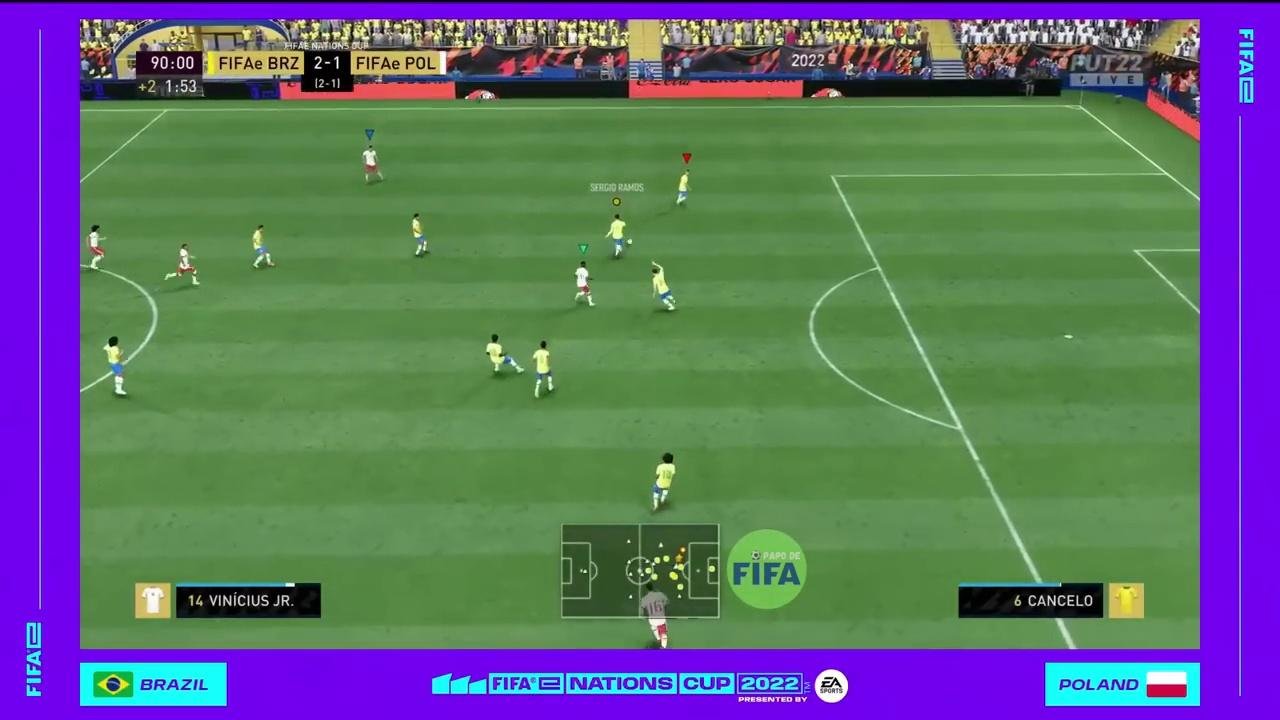scoreboard: (208, 49, 449, 79)
timestamp: (133, 50, 206, 99)
